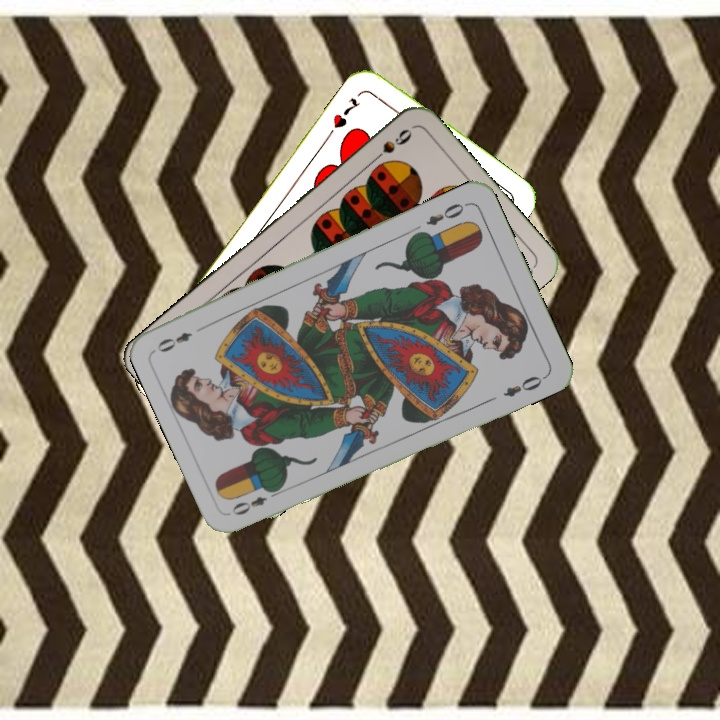EO: (227, 485, 283, 518), (422, 198, 471, 228)
H7: (329, 94, 364, 131)
S9: (366, 124, 415, 167)
